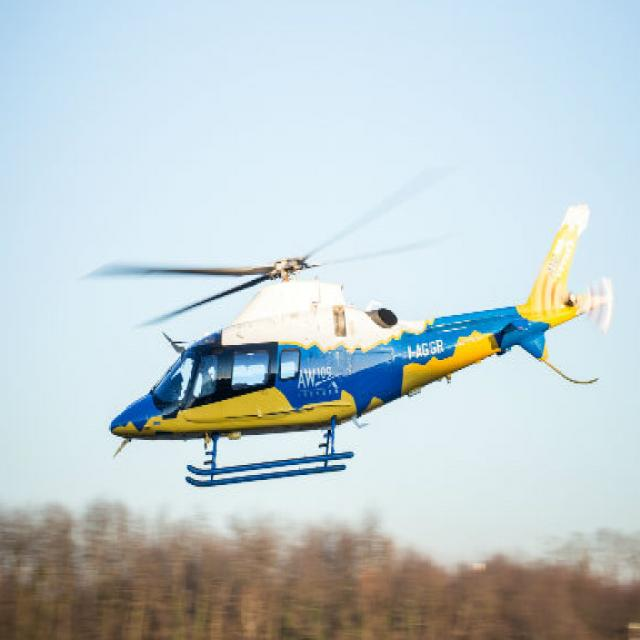helicopter: (85, 201, 617, 498)
